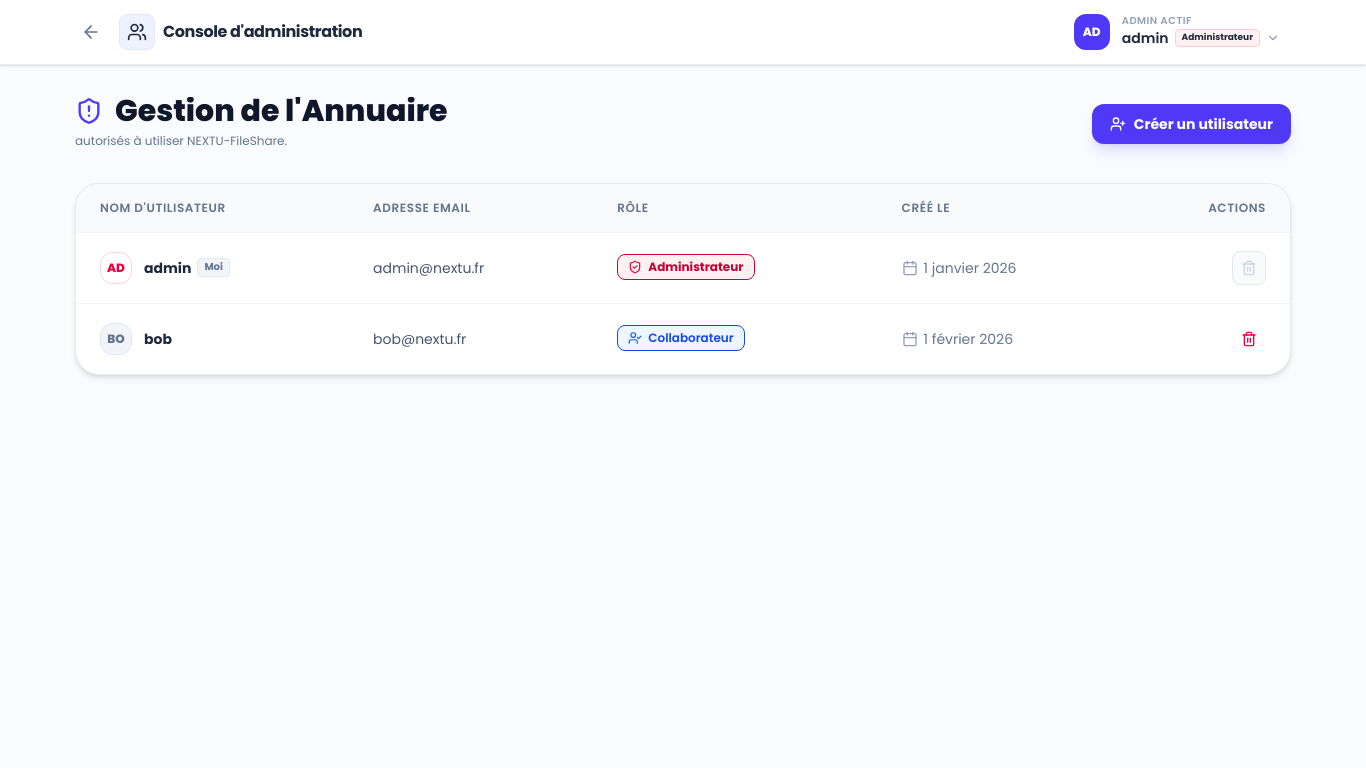
Test: AdminUsers › deletes another user after confirmation
Expected: the text "bob" is shown, [144,328,172,348]
Click the button without text in the row of "bob@nextu.fr": (1249, 338) [1232,322,1266,356]
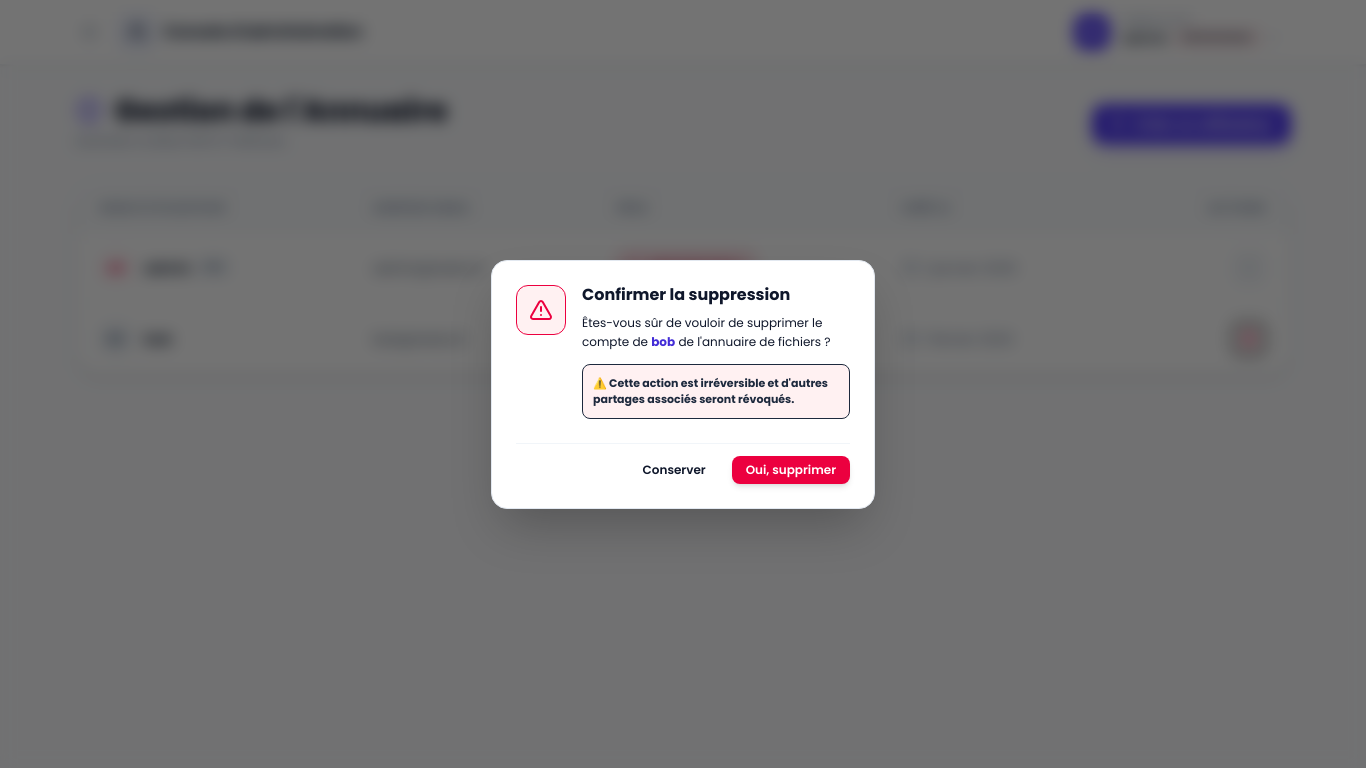
Click the button "Oui, supprimer": (791, 470) [732,456,850,484]
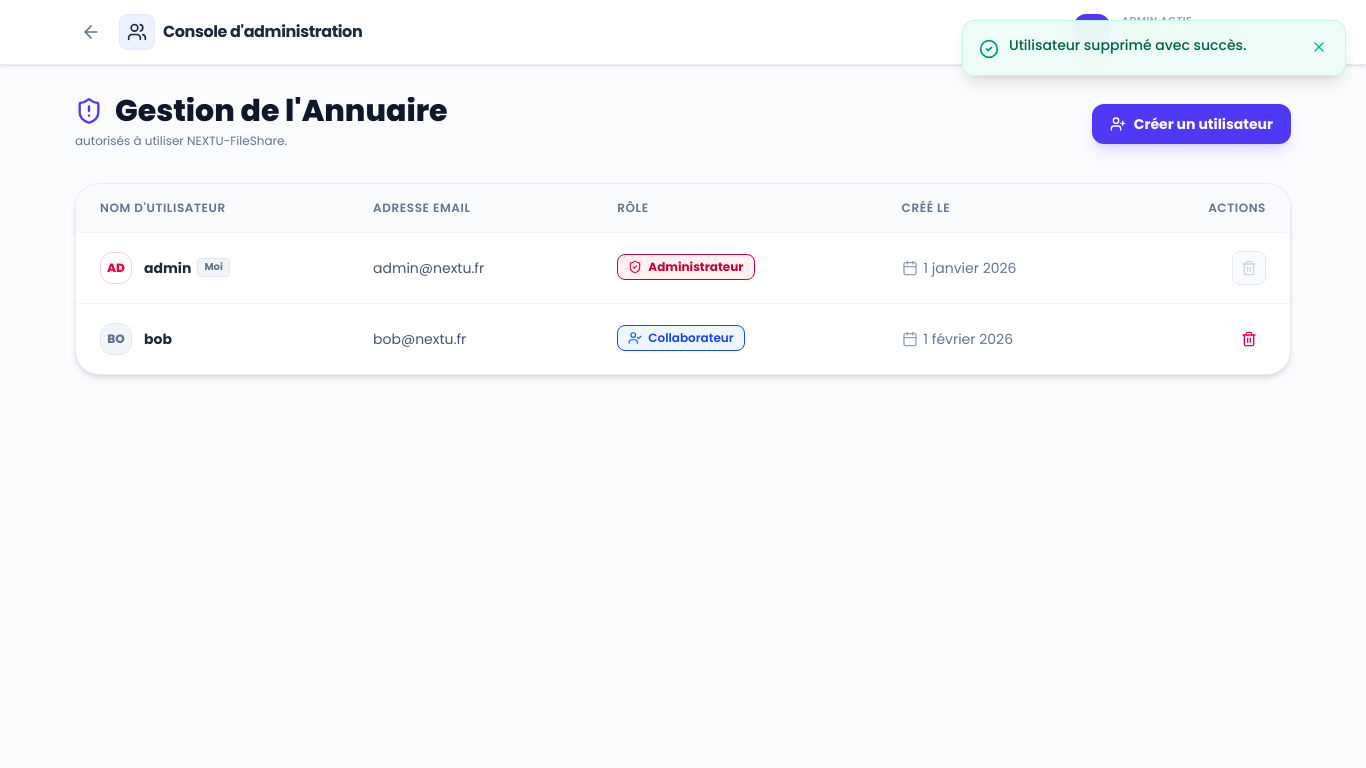
Now the text "Utilisateur supprimé avec succès." is shown, box [1009,37,1246,54]
